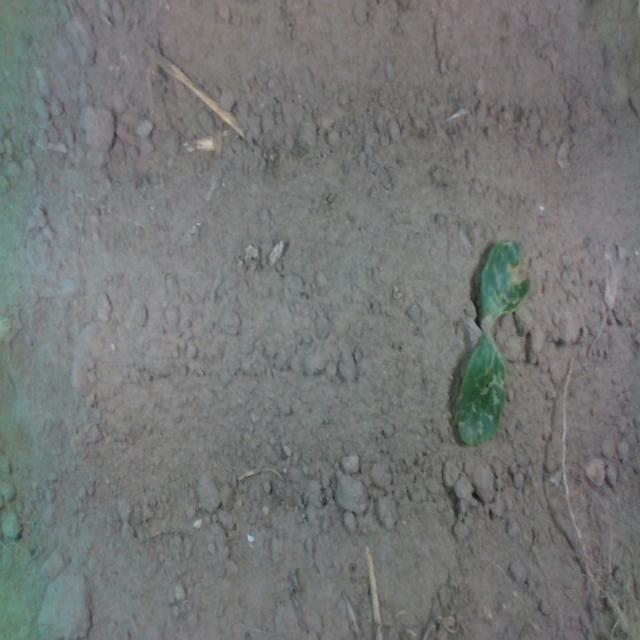crop: (453, 236, 530, 444)
